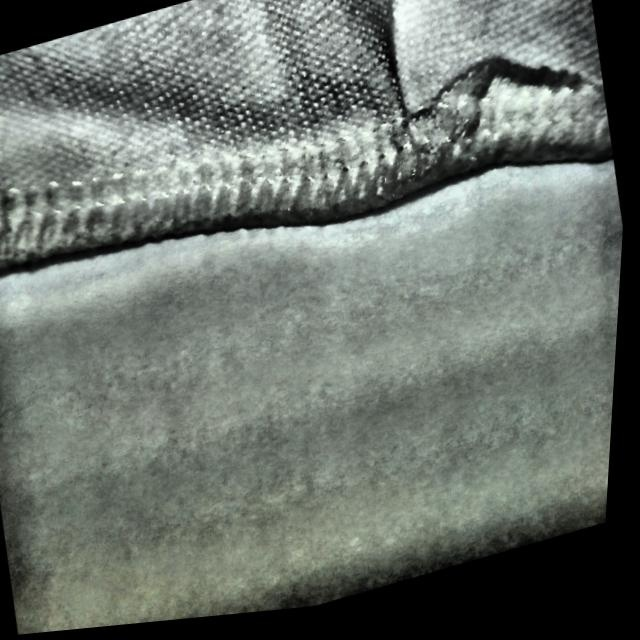seam: (333, 0, 609, 213)
